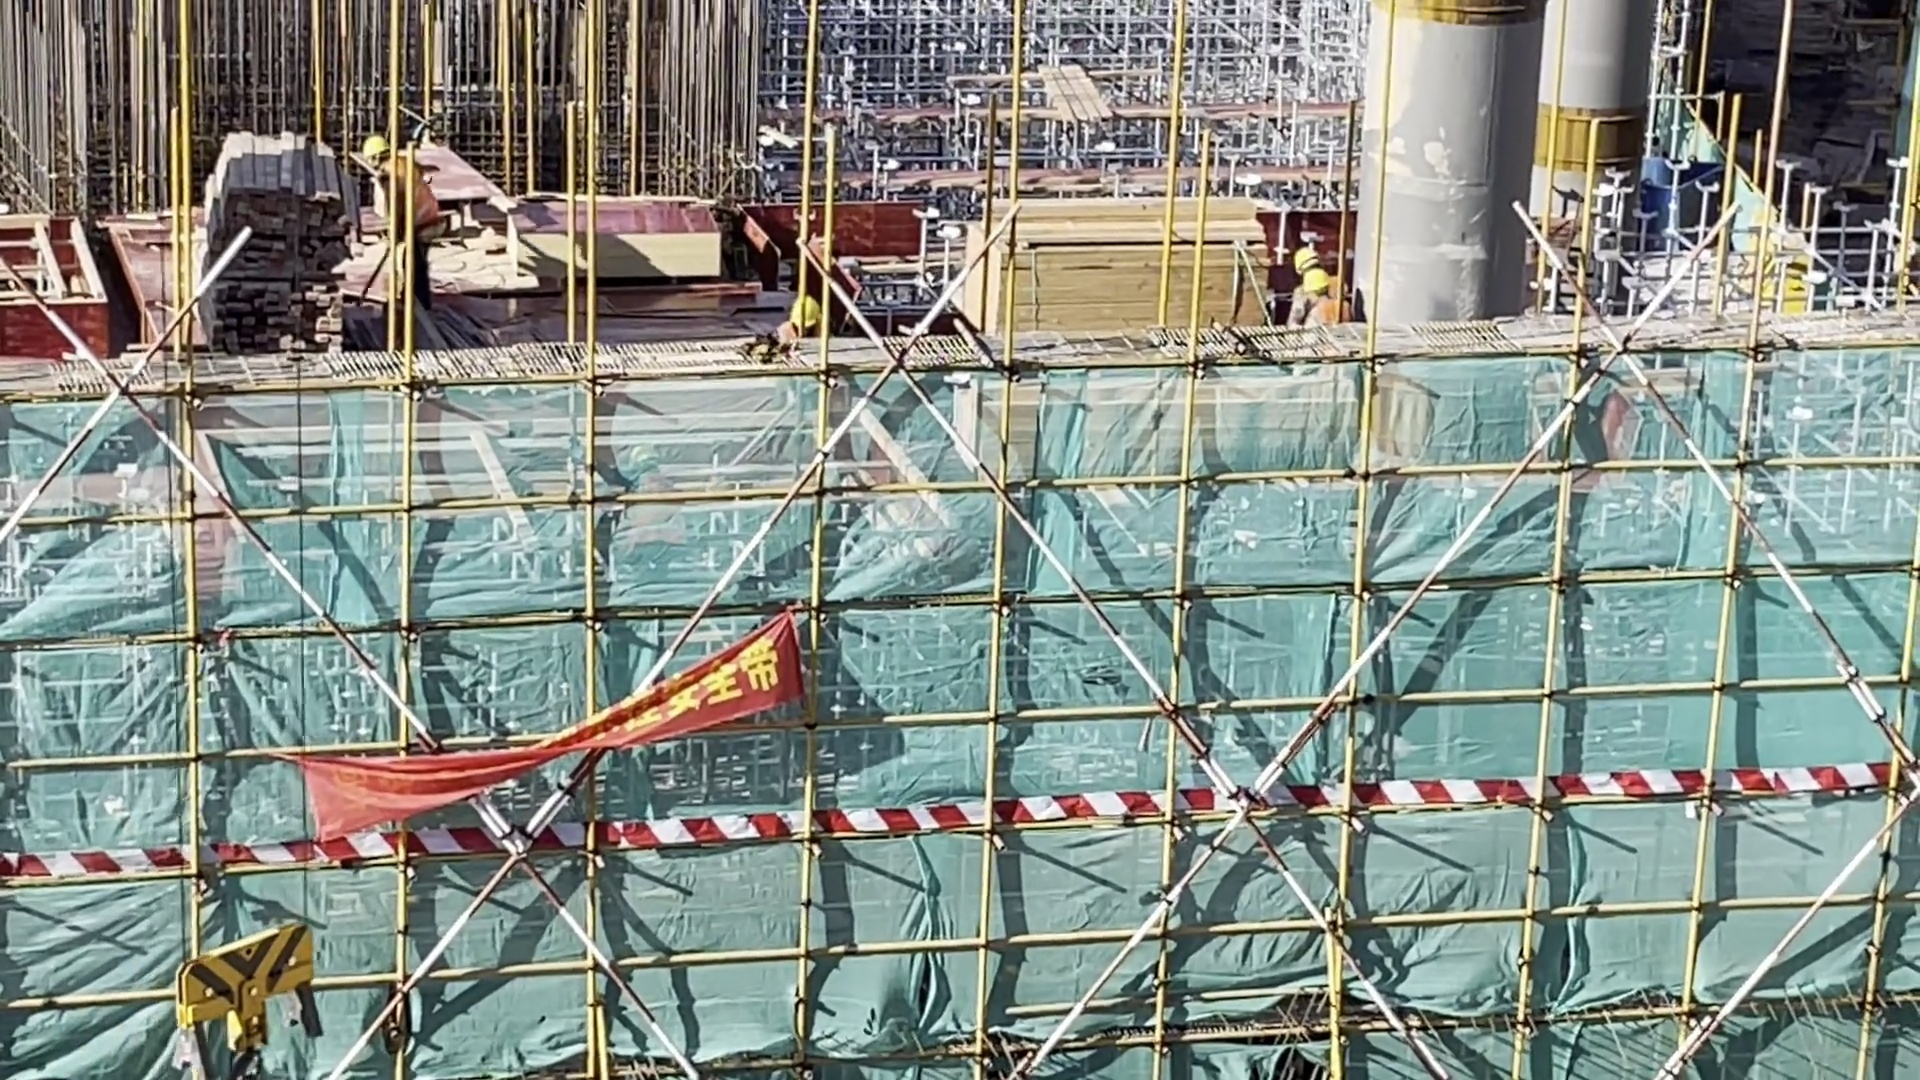helmet: (1286, 241, 1334, 302), (356, 133, 399, 162), (789, 295, 826, 323)
hopper: (1634, 152, 1728, 256)
person: (1277, 247, 1348, 333)
slogan: (286, 606, 814, 829)
wood: (953, 186, 1271, 350), (194, 121, 362, 372)
